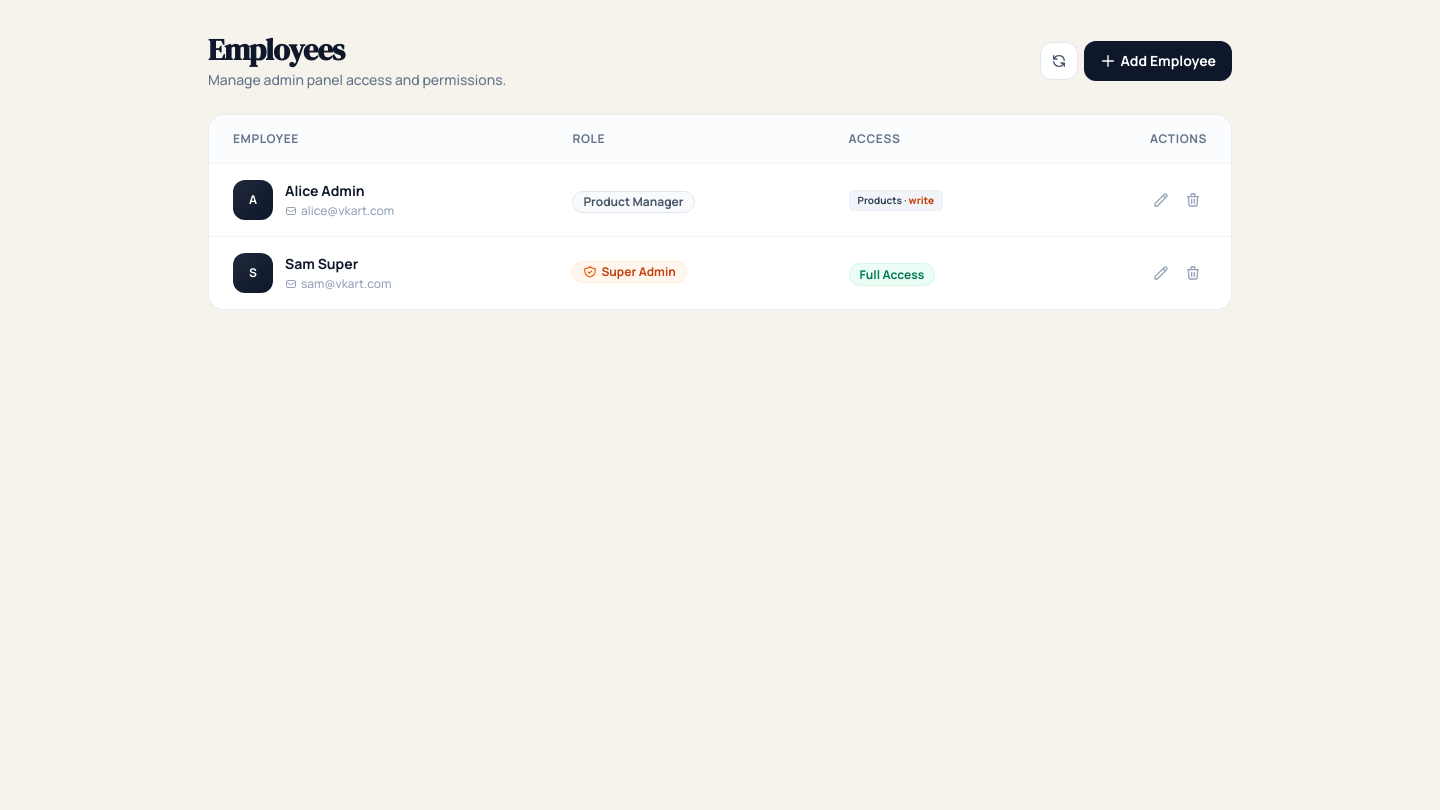
Scenario: AdminEmployees Component › revokes an employee's access after confirming
The width and height of the screenshot is (1440, 810).
Check: the table is shown, box [209, 115, 1231, 309]
What coordinates should you click on to do the following:
click the button titled "revoke access" in the row of "Alice Admin"
I would click on:
 (1193, 200)
Its box is [1179, 186, 1207, 214].
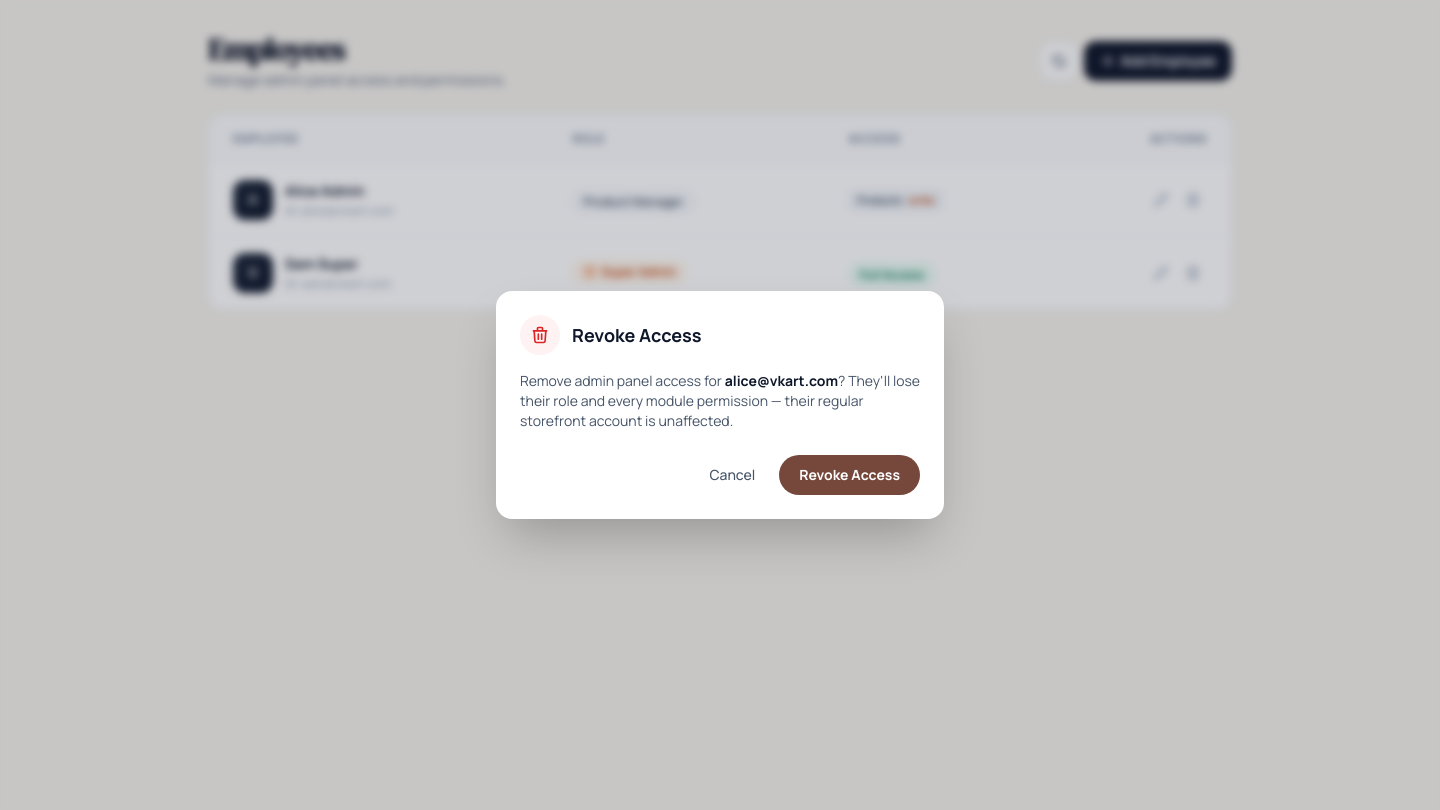
Check: the text "Remove admin panel access" is shown, box [520, 371, 725, 390]
What coordinates should you click on to do the following:
click the button "Revoke Access"
I would click on:
 (850, 475)
Its box is [779, 455, 920, 495].
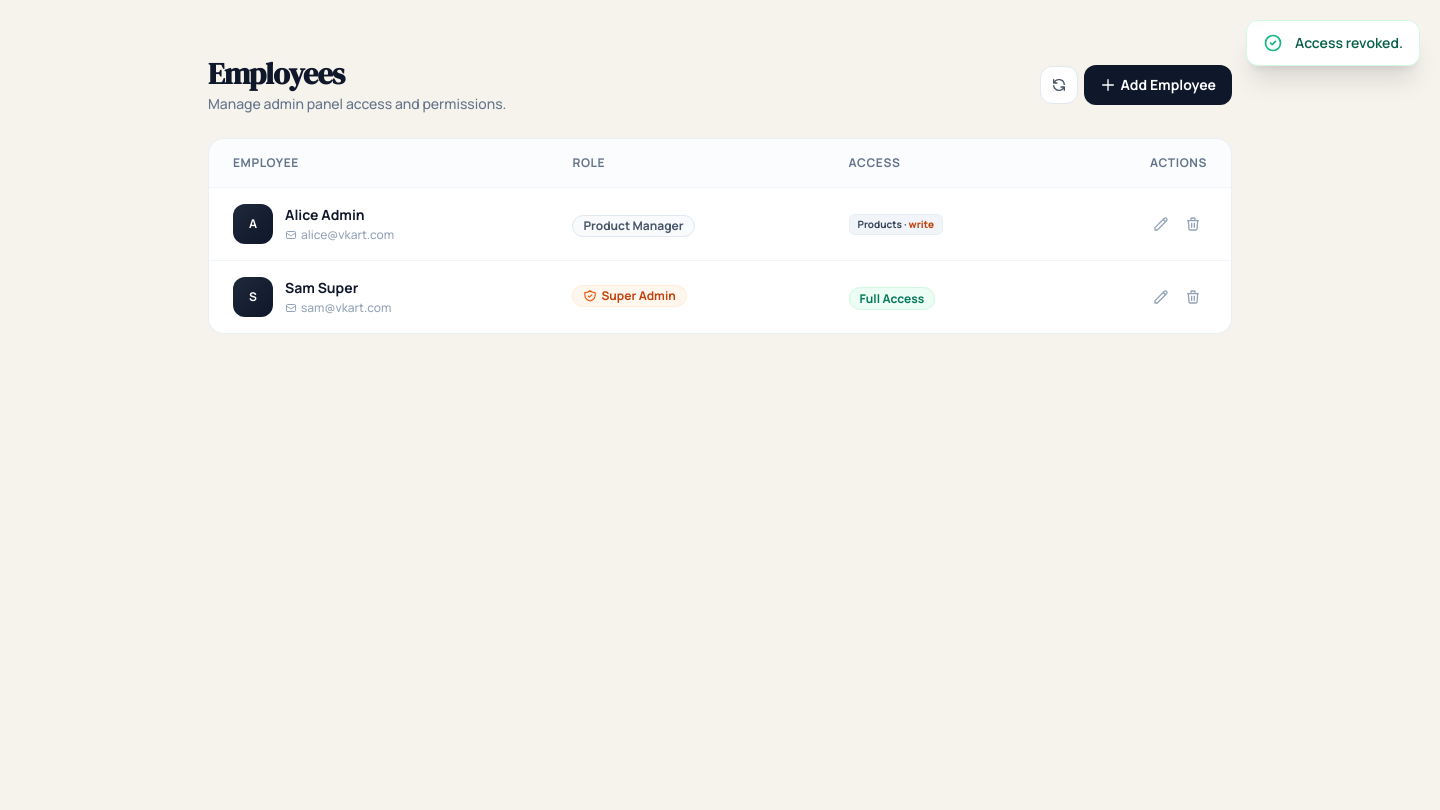
Check: the text "Access revoked." is shown, box [1295, 33, 1403, 53]
